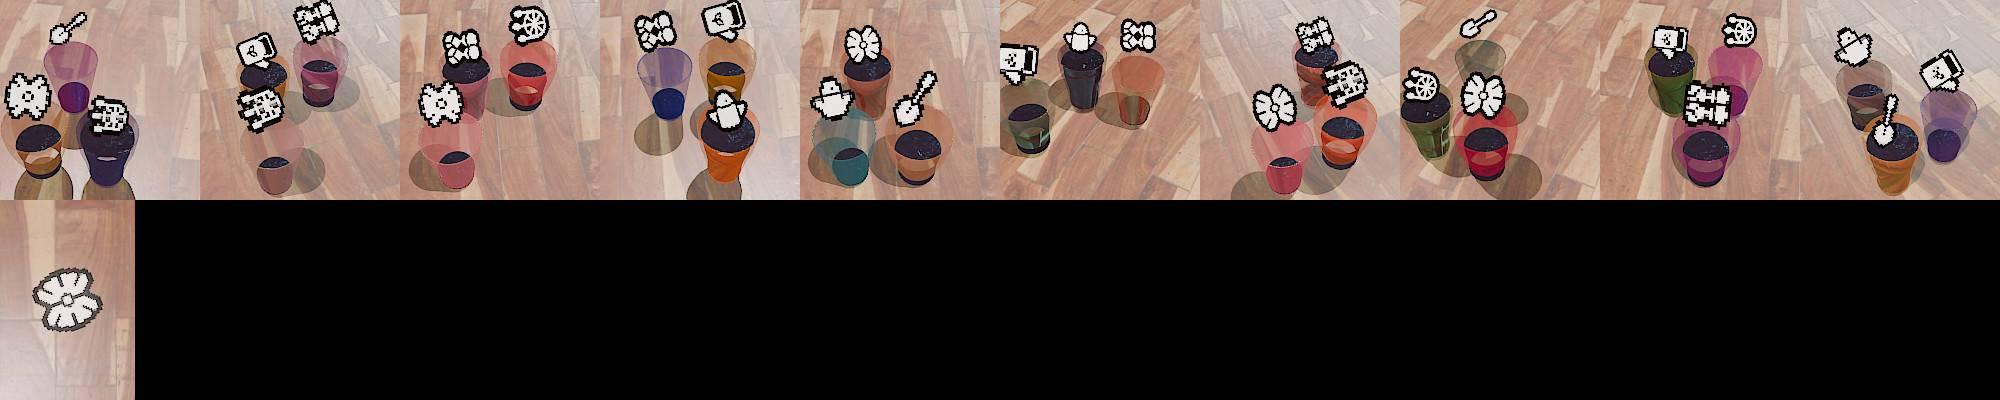icon: (31, 266, 102, 331), (893, 69, 937, 130), (237, 84, 287, 136), (3, 71, 52, 121), (1321, 60, 1370, 110), (1682, 80, 1733, 127), (416, 80, 464, 127), (1253, 83, 1298, 132), (1460, 71, 1506, 120), (810, 74, 856, 121), (293, 1, 339, 47), (1918, 48, 1964, 93), (633, 10, 676, 54), (700, 0, 746, 41), (1871, 92, 1903, 149), (707, 88, 749, 130), (999, 43, 1040, 87), (440, 28, 483, 68), (843, 22, 883, 64), (508, 5, 548, 45), (1403, 65, 1443, 106), (88, 96, 130, 134), (1834, 27, 1874, 66), (1295, 15, 1334, 54), (236, 33, 277, 70), (50, 10, 89, 46), (1120, 17, 1156, 54), (1652, 24, 1689, 59), (1721, 13, 1755, 47), (1062, 19, 1097, 54), (1460, 8, 1499, 38)
